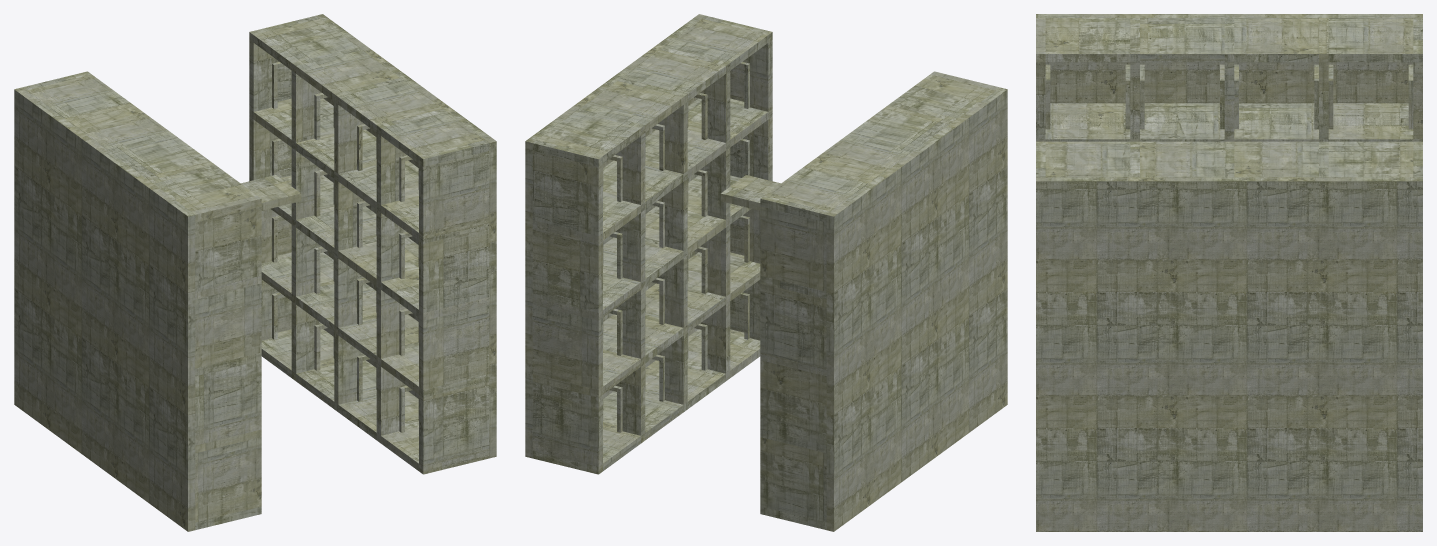
File: SM_Stroke_00_Block_00.fbx
3 renders of one model, left to right at view 1: azimuth 30°, elevation 25°; view 2: azimuth 150°, elevation 25°; view 3: azimuth 270°, elevation 25°, orthographic. The views are drawn at different scales.
Parts seen in each view (by area): view 1: SM_Stroke_00_Block_00; view 2: SM_Stroke_00_Block_00; view 3: SM_Stroke_00_Block_00.
Part boxes in pixels (x1,y1,x2,y2): SM_Stroke_00_Block_00: (14,14,496,531); SM_Stroke_00_Block_00: (525,14,1007,531); SM_Stroke_00_Block_00: (1036,14,1422,531).
Bounding box in the file's own units: 2790 × 2724 × 2724.
